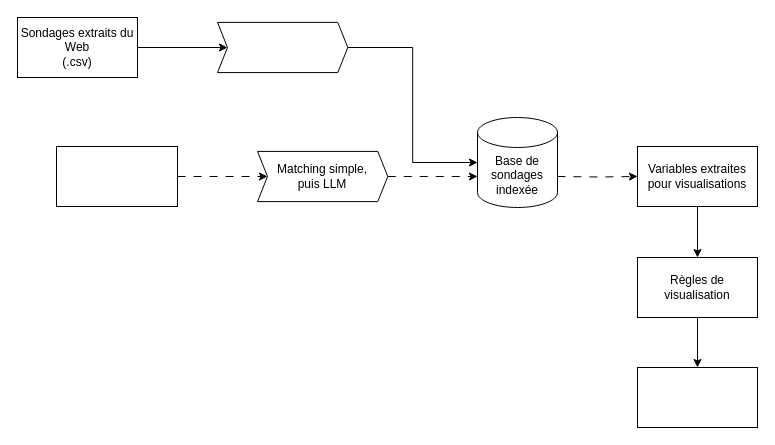
The diagram is 775 pixels wide and 445 high, and some of its shapes have lost their labels. The shapes that lost their labels are listed below. From the top down, each one's centre as x and y in pixels, then its label:
the point at 282,47: Nettoyage, structuration, indexation
the point at 117,176: Input de l'utilisateur: mot-clé, prompt, phrase
the point at 697,397: Fonctions de visualisation
